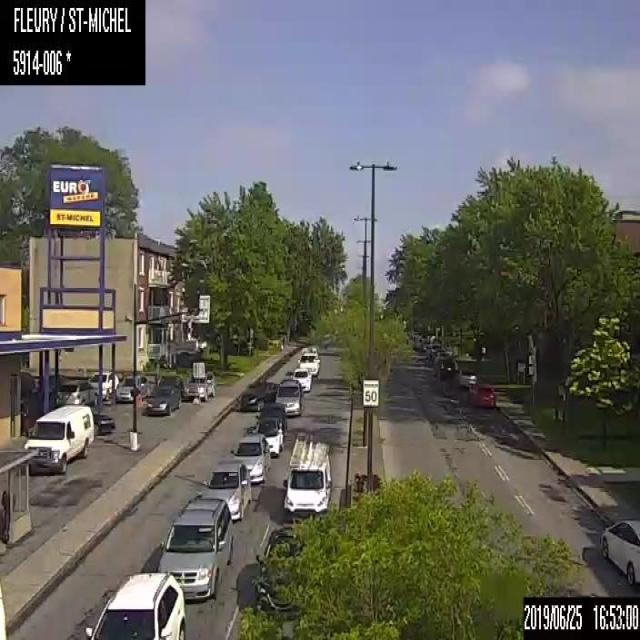vehicle: (155, 493, 235, 602), (84, 571, 188, 639), (23, 401, 95, 474), (283, 433, 332, 515), (252, 523, 299, 608), (203, 456, 253, 520), (598, 518, 639, 590), (231, 432, 272, 485), (52, 378, 100, 410), (142, 384, 182, 416), (252, 417, 284, 455), (239, 378, 277, 409), (275, 377, 304, 417), (113, 372, 148, 404), (184, 371, 217, 403), (256, 402, 287, 434), (87, 369, 119, 398), (157, 373, 185, 399), (466, 385, 494, 408), (433, 355, 458, 380), (454, 365, 478, 390), (91, 409, 114, 434), (290, 365, 312, 391), (298, 351, 320, 374)
